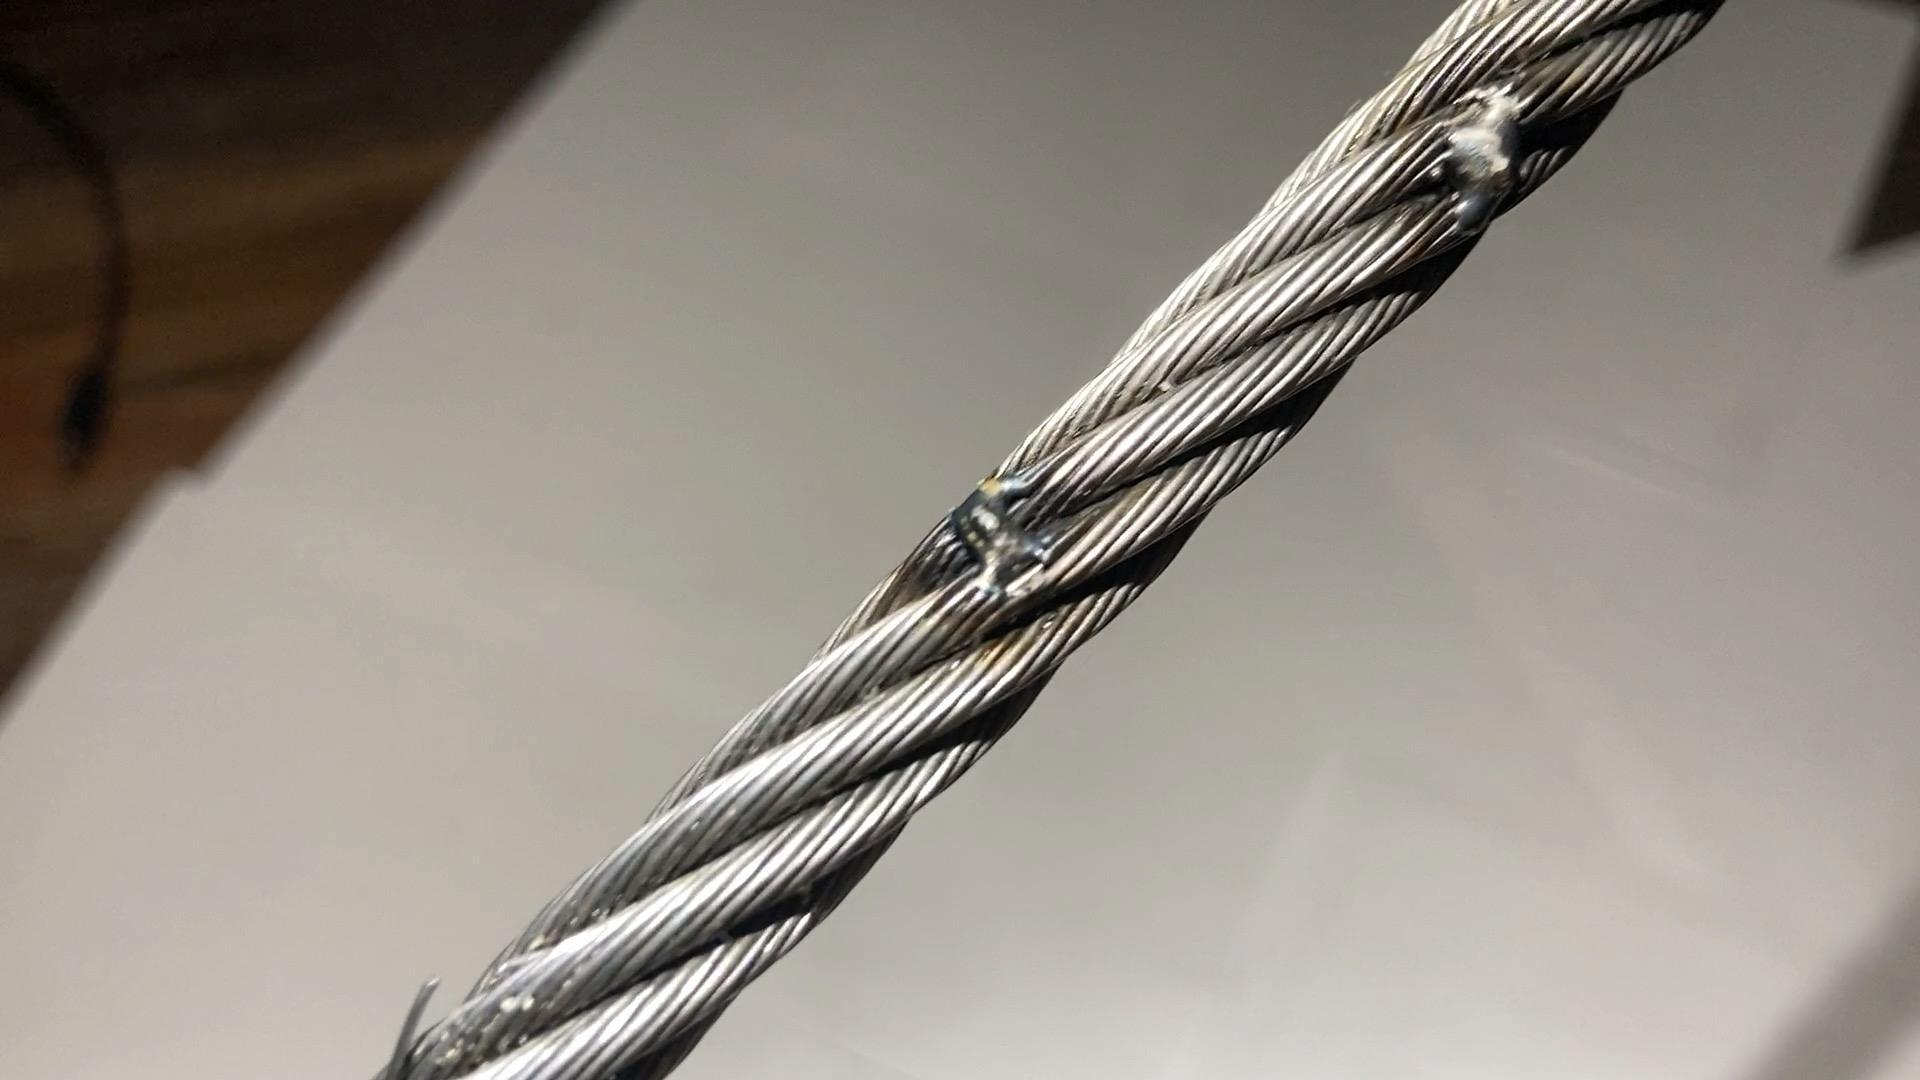break: (361, 938, 492, 1064)
thunderbolt: (1431, 53, 1551, 233), (915, 483, 1062, 589)
